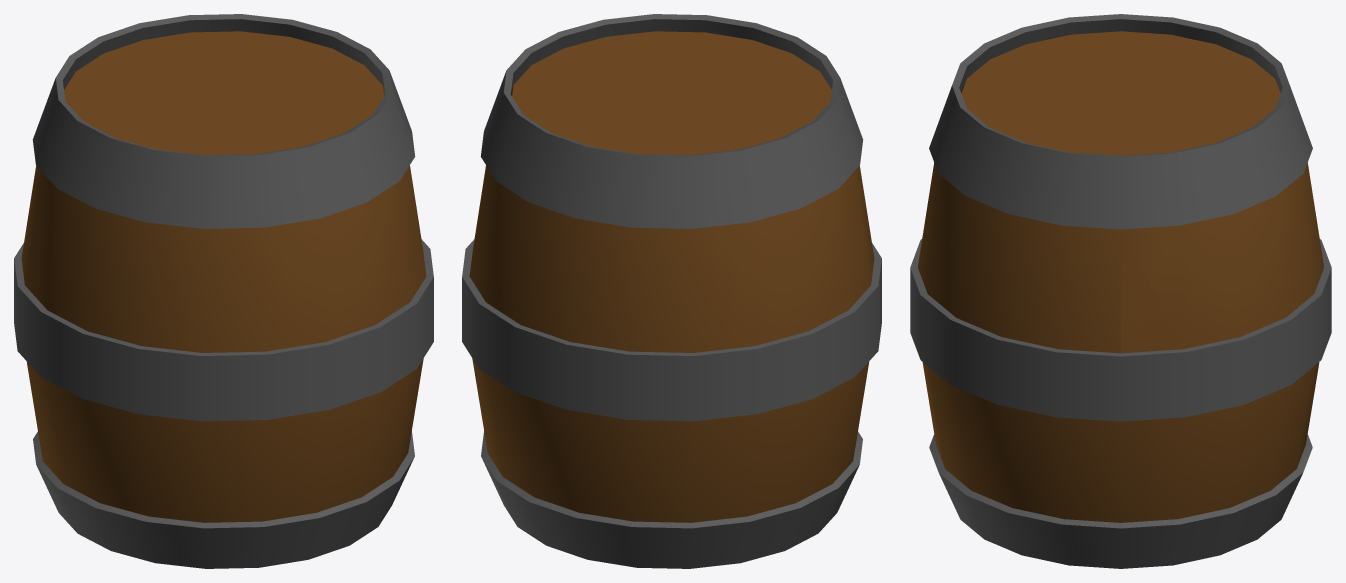
The model's file is barrel_normal.fbx.
3 renders of one model, left to right at view 1: azimuth 30°, elevation 25°; view 2: azimuth 150°, elevation 25°; view 3: azimuth 270°, elevation 25°, orthographic.
Parts seen in each view (by area): view 1: barrel; view 2: barrel; view 3: barrel.
Boxes of the visible parts, left/top/right/bottom form: barrel: left=14, top=14, right=433, bottom=568; barrel: left=462, top=14, right=881, bottom=568; barrel: left=910, top=14, right=1331, bottom=568.
Size of the model in its own units: 4.47 by 4.83 by 4.47.
